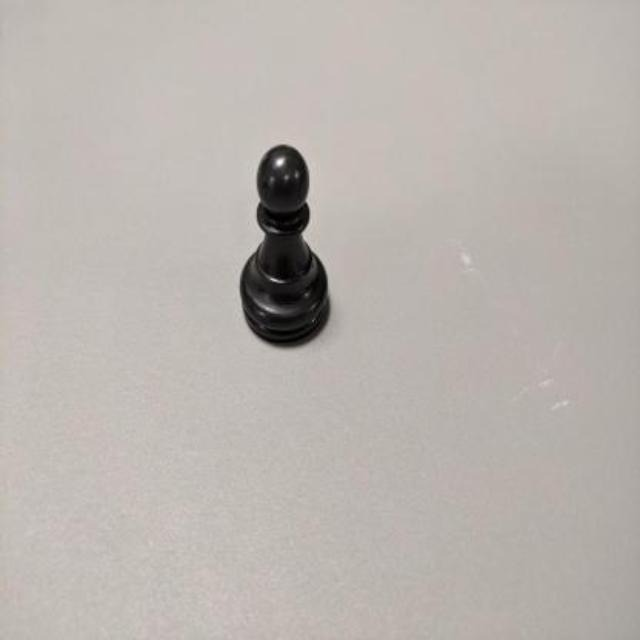black-pawn: (235, 139, 331, 348)
